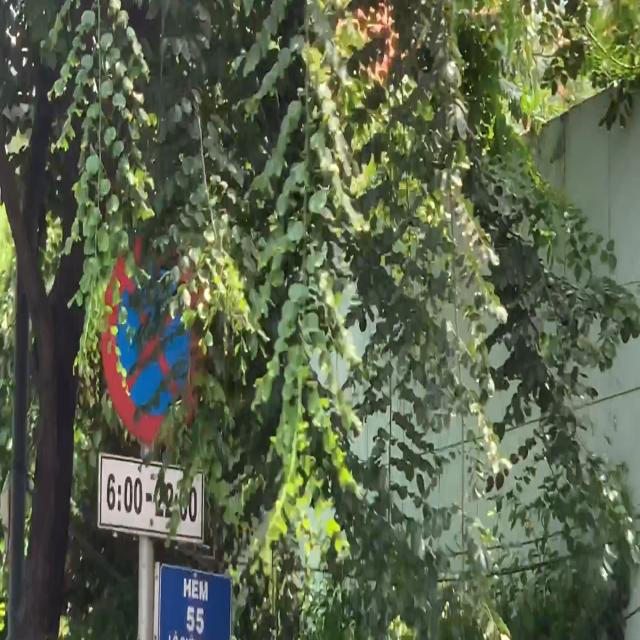Cam dung va do: (100, 228, 213, 442)
